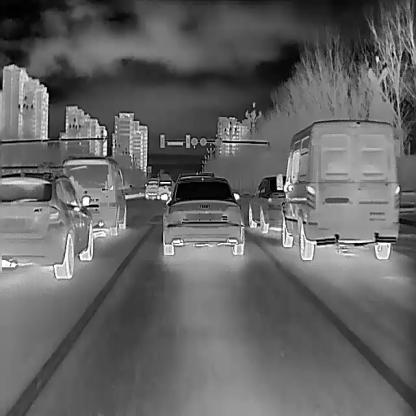car: (279, 117, 401, 261), (0, 159, 96, 279), (161, 174, 245, 255), (61, 153, 127, 236), (246, 173, 290, 232), (157, 179, 175, 200), (144, 178, 158, 198)
